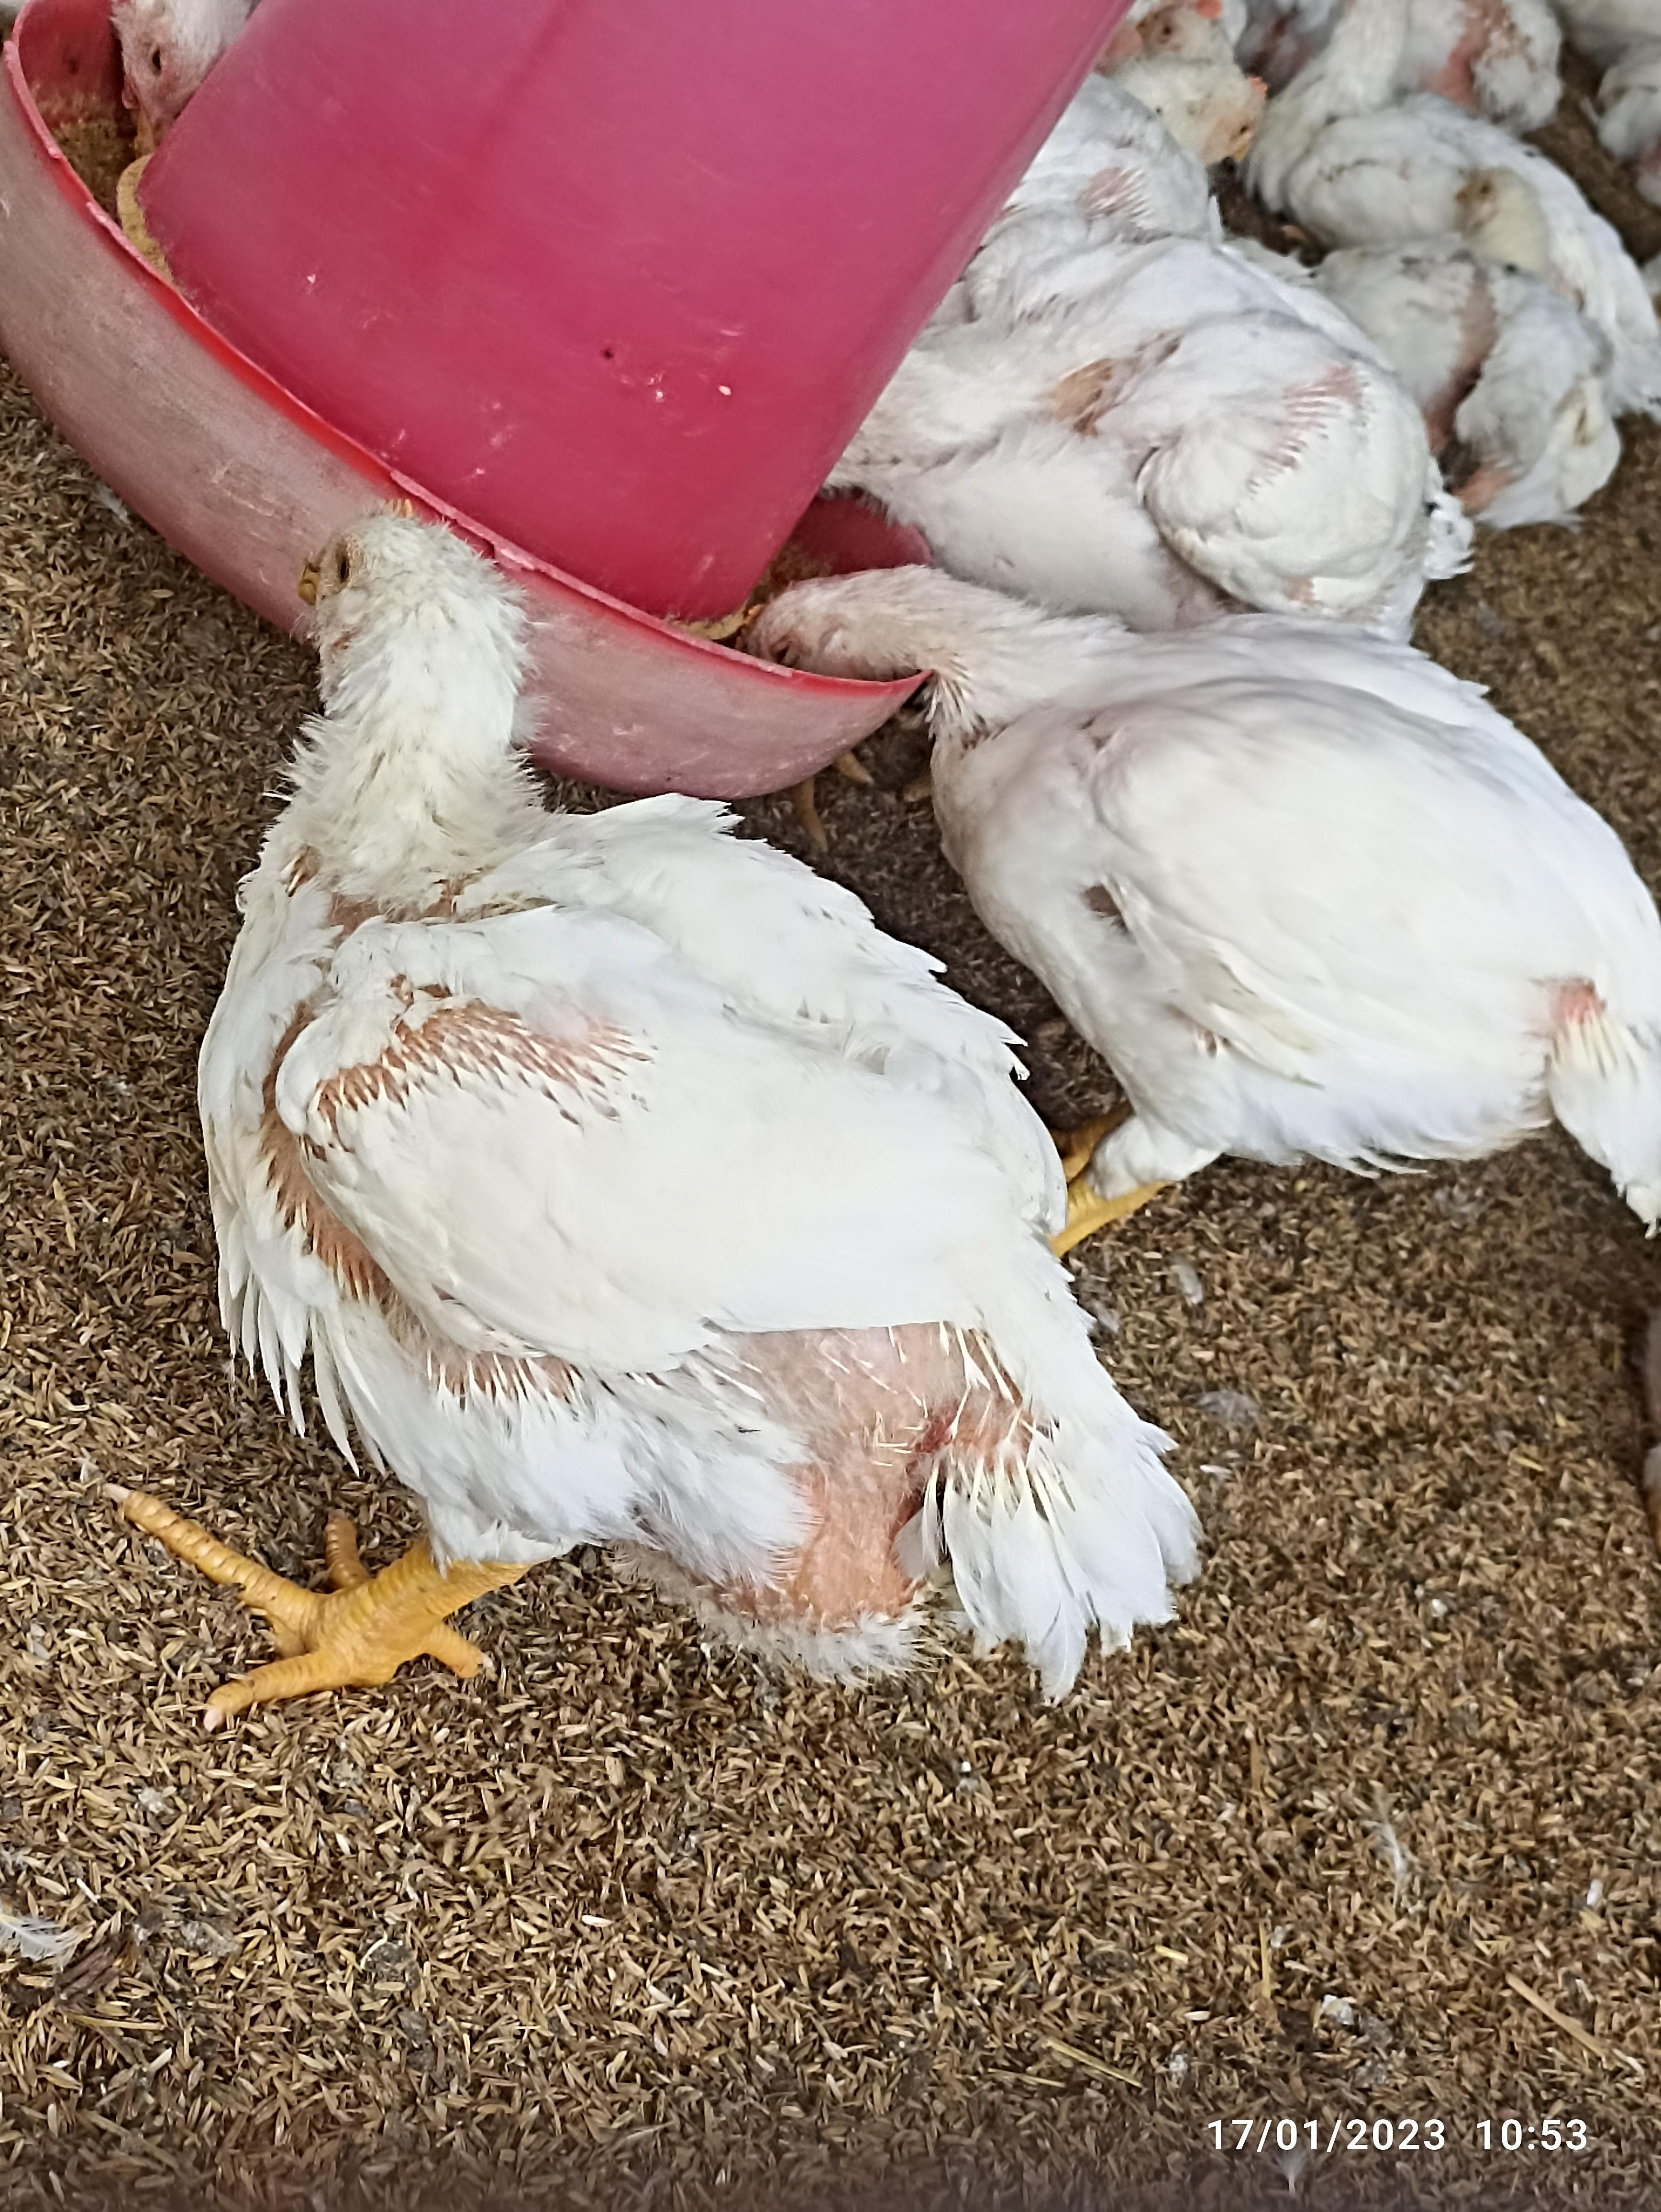Pollos: (215, 520, 1179, 1676), (771, 546, 1644, 1232), (1317, 155, 1600, 492)
